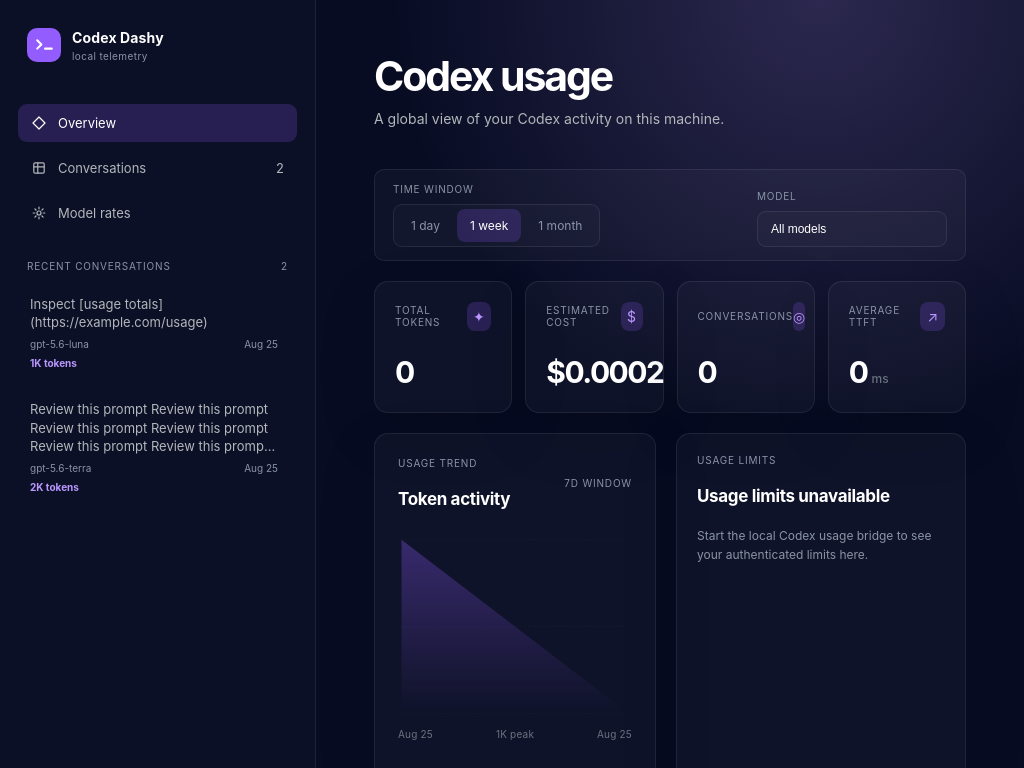
Test: App › keeps the conversation view usable while an older API payload is still cached
The width and height of the screenshot is (1024, 768).
Click the button "Inspect [usage totals](https://example.com/usage)" at (154, 332), box [18,283,290,381]
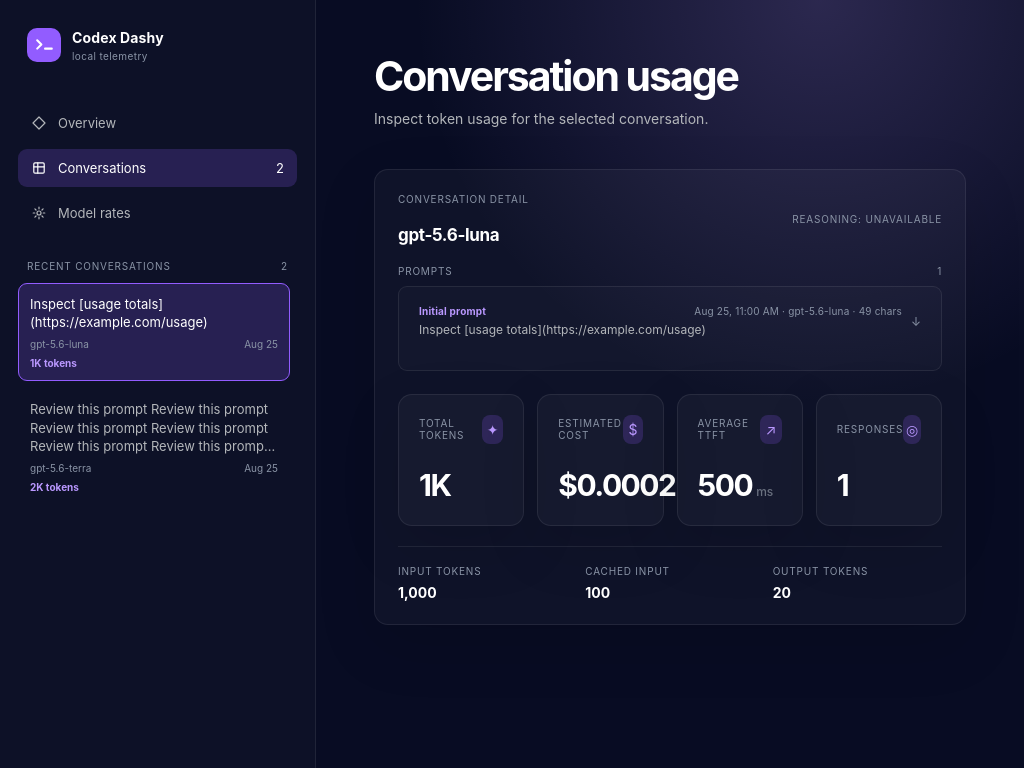
Now the heading "gpt-5.6-luna" is shown, box [398,225,499,245]
Now the button "Initial prompt" is shown, box [406,294,934,350]
